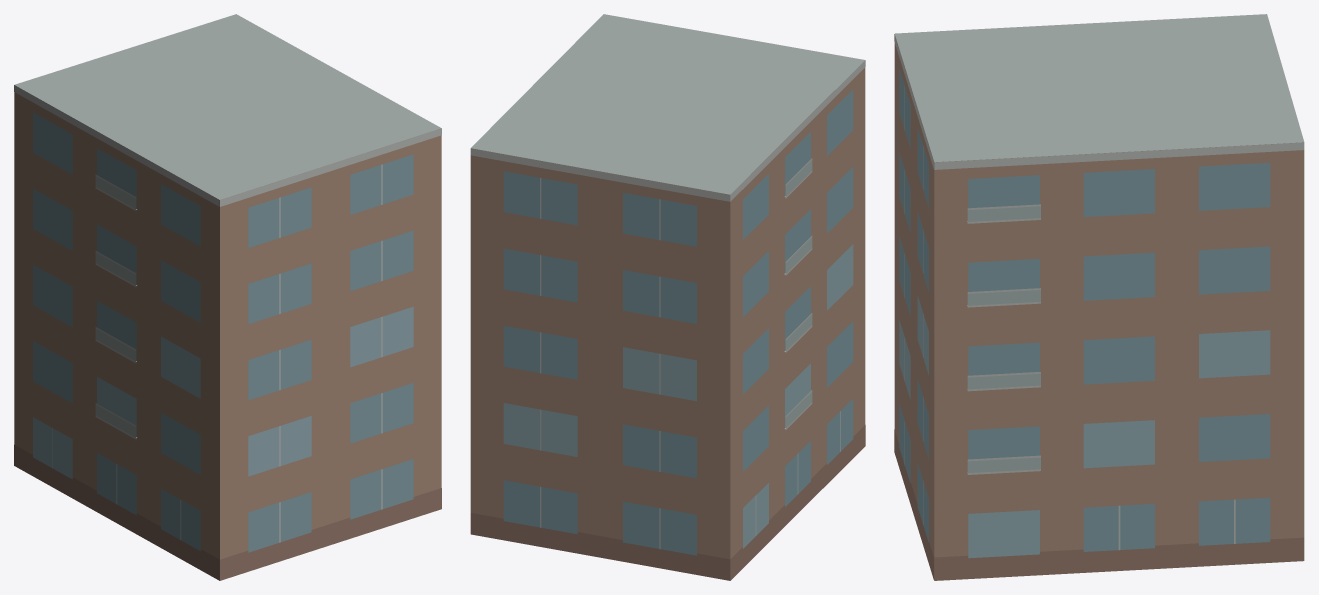
Rendered from survey-upis-33033987.glb.
3 views of the same model, side by side, from view 1: azimuth 30°, elevation 25°; view 2: azimuth 150°, elevation 25°; view 3: azimuth 270°, elevation 25° (orthographic). The views are drawn at different scales.
Visible parts, largest first — view 1: survey-upis-33033987.tmp; view 2: survey-upis-33033987.tmp; view 3: survey-upis-33033987.tmp.
Boxes of the visible parts, x1,y1,x2,y2 form: survey-upis-33033987.tmp: [14, 14, 441, 580]; survey-upis-33033987.tmp: [470, 14, 865, 580]; survey-upis-33033987.tmp: [894, 14, 1304, 580].
Bounding box in the file's own units: 10.03 × 13.2 × 11.73.
